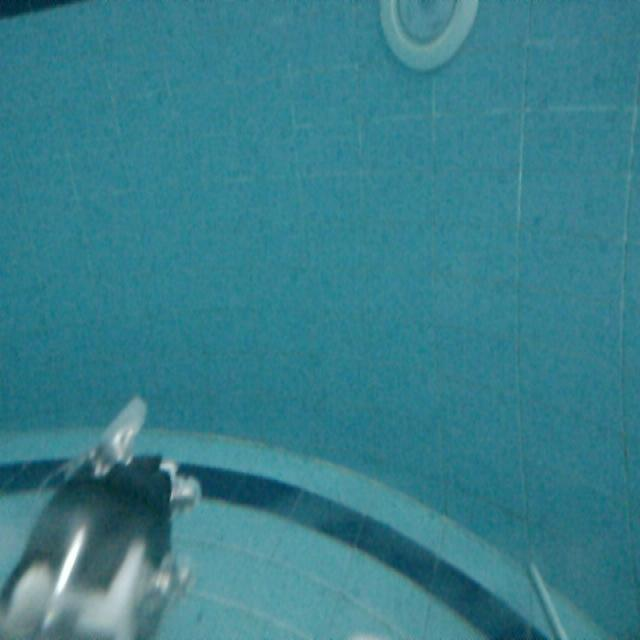Cube: (526, 558, 577, 640)
